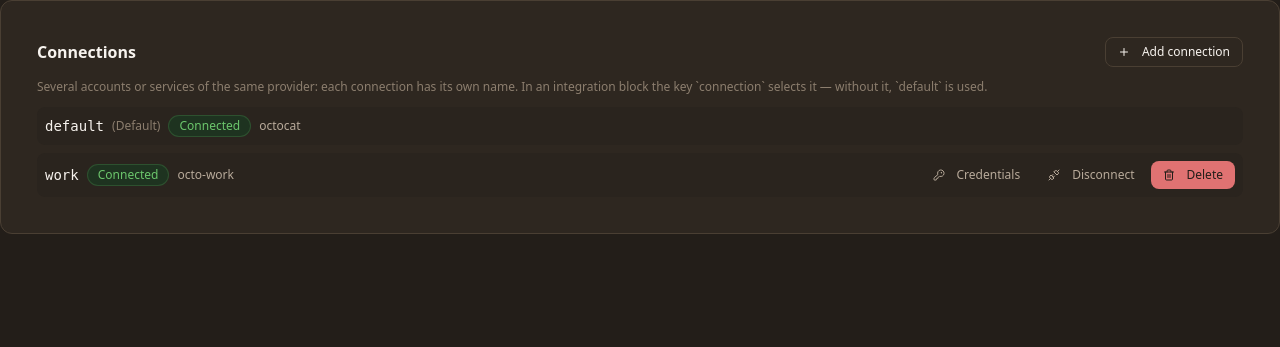
Test: ConnectionsPanel › validates a new name: pattern and uniqueness
The image size is (1280, 347).
Click the button "Add connection" at (1174,52), box top-left (1105, 37), bottom-right (1243, 67)
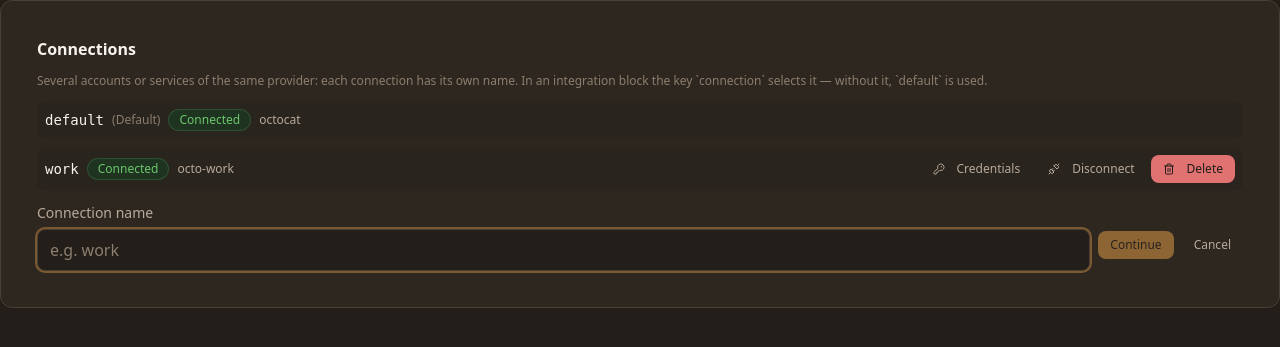
Type "Work Account" into the field labelled "Connection name" at (564,250), box top-left (37, 229), bottom-right (1090, 271)
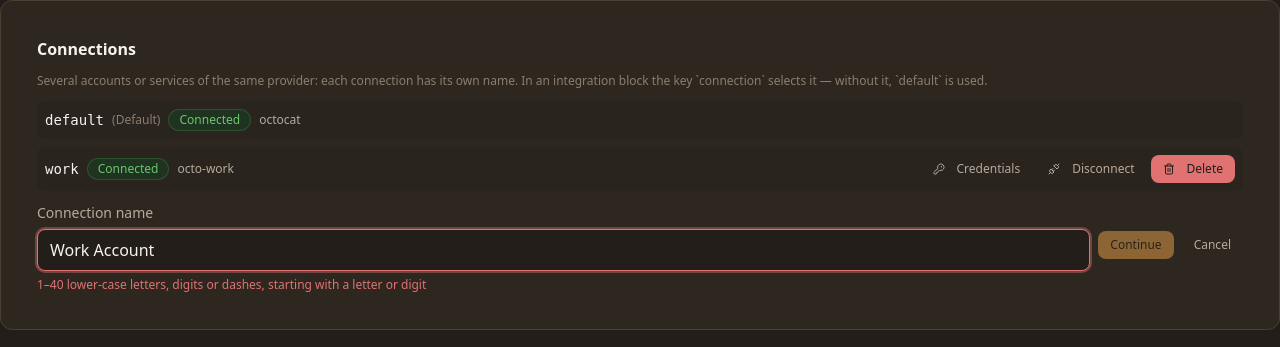
Expected: the button "Continue" is disabled, top-left (1098, 231), bottom-right (1174, 259)
Expected: the text "1–40 lower-case letters" is shown, top-left (37, 276), bottom-right (426, 293)
Replace the text in the field labelled "Connection name" with "work" at (564,250), box top-left (37, 229), bottom-right (1090, 271)
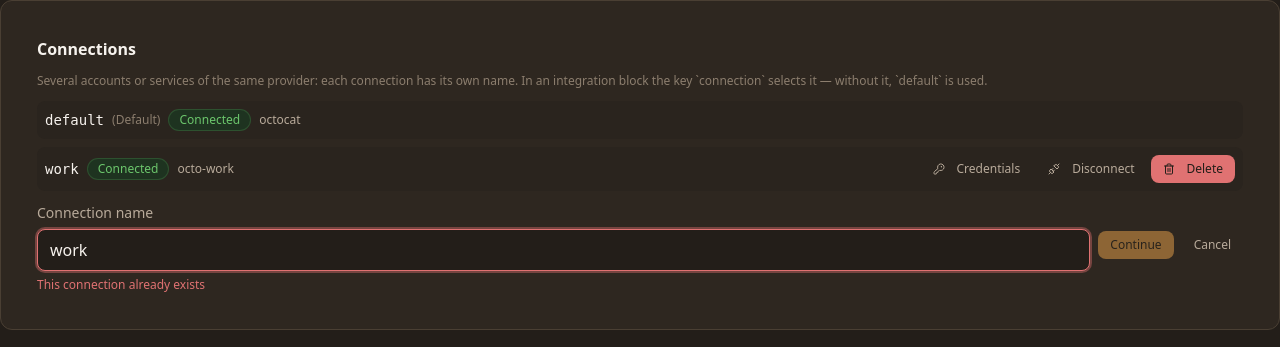
Expected: the text "This connection already exists" is shown, top-left (37, 276), bottom-right (205, 293)
Replace the text in the field labelled "Connection name" with "private-2" at (564,250), box top-left (37, 229), bottom-right (1090, 271)
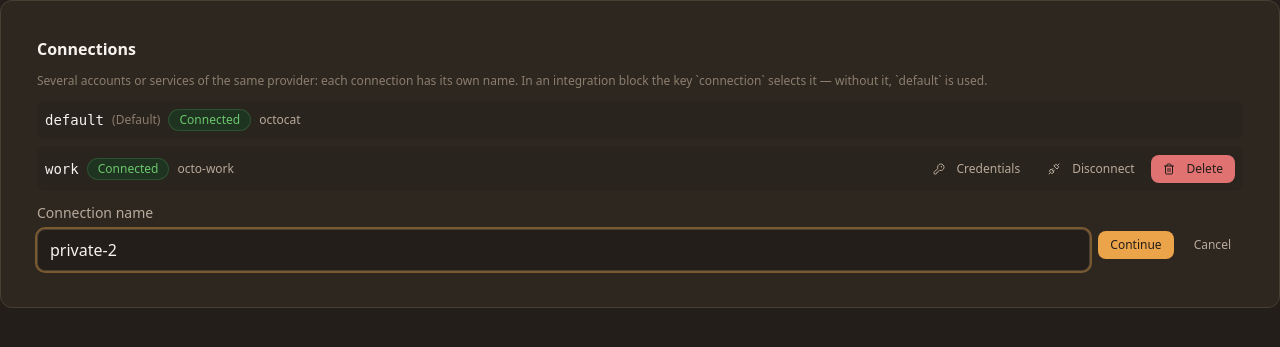
Expected: the button "Continue" is enabled, top-left (1098, 231), bottom-right (1174, 259)
